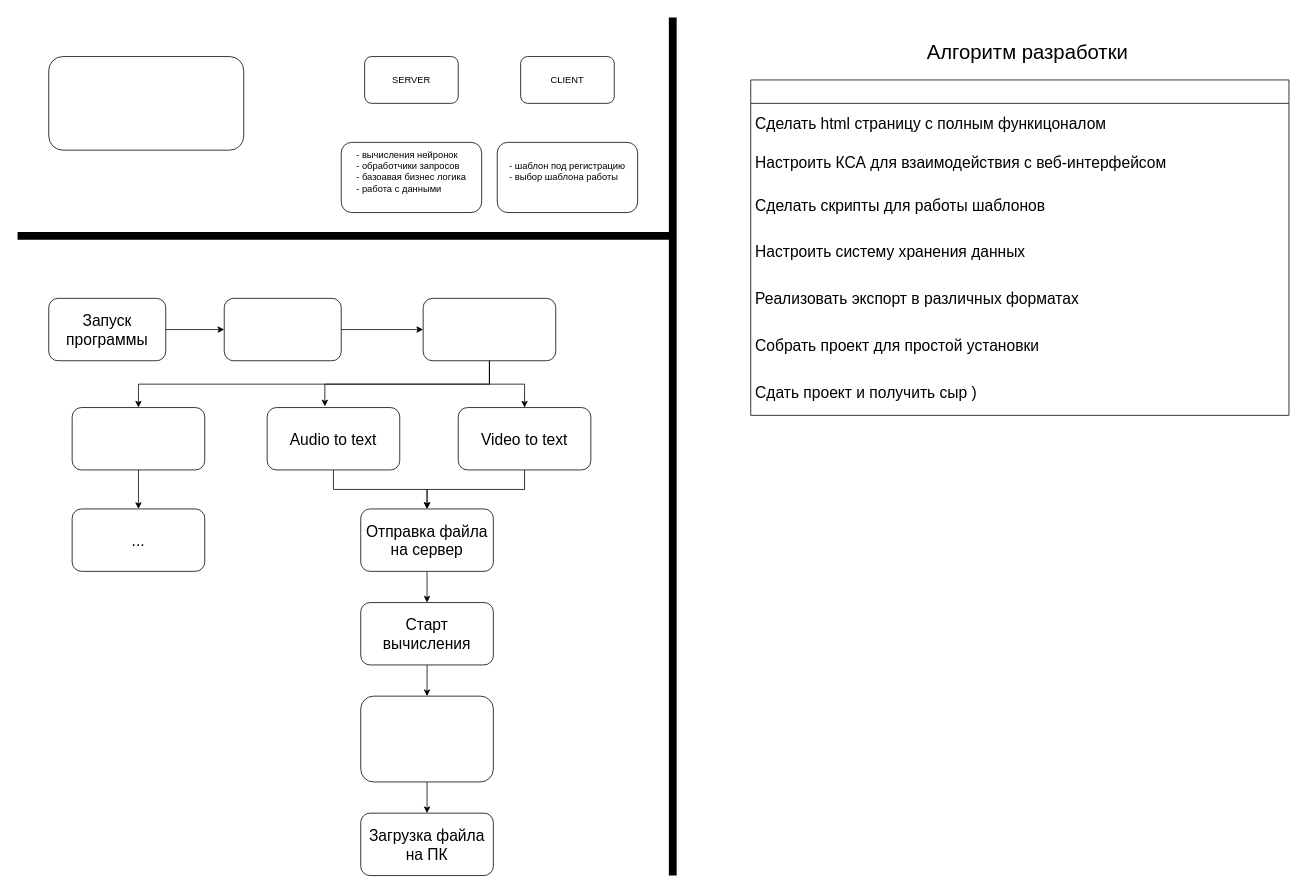
The diagram is 1303 pixels wide and 893 high, and some of its shapes have lost their labels. The box of each missing label's shape, as (x1, y1, x2, y2) in pixels:
Real-time: (71, 407, 205, 470)
Выбор шаблона работы: (422, 298, 556, 361)
Задачи 1) Real-Time STT 2) Audio STT 3) Video STT: (48, 56, 244, 150)
Конец вычисления и выбор способа экспорта: (360, 695, 493, 782)
Открывается html страница: (223, 298, 341, 361)
